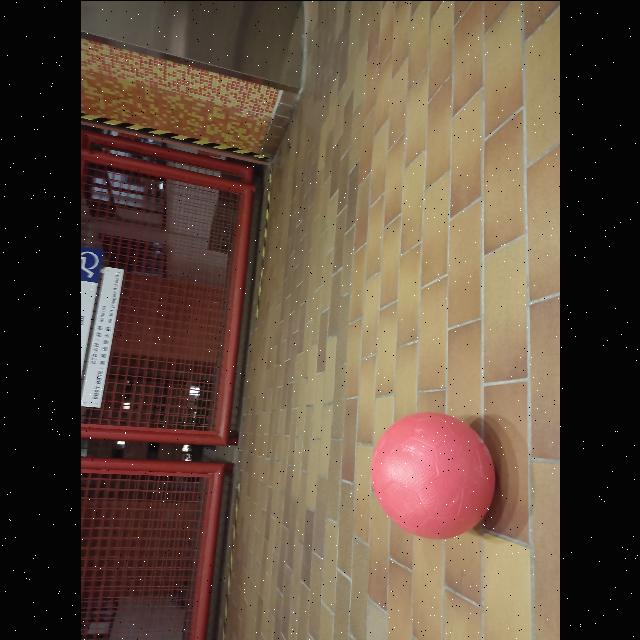R: (369, 411, 496, 537)
